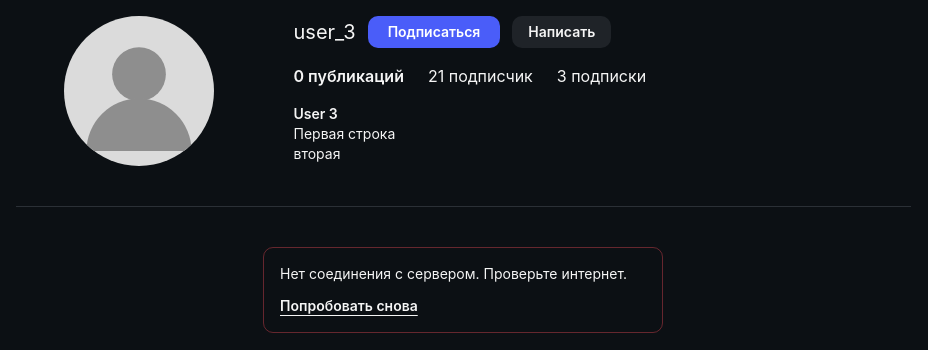
Test: profile page › shows counters, follows and refreshes the profile from the API
expect the heading "user_3" is shown: met, box [294, 18, 356, 46]
expect the button "21 подписчик" is shown: met, box [428, 64, 533, 88]
Click the button "Подписаться": (434, 32) [368, 16, 500, 48]
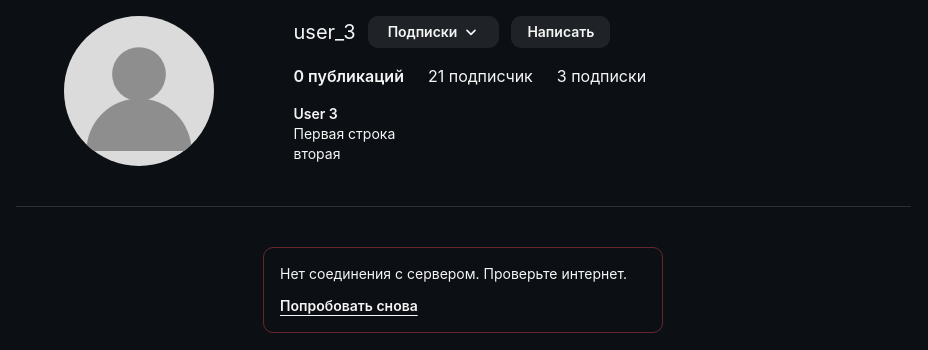
expect the button "Подписки" is shown: met, box [368, 16, 499, 48]
